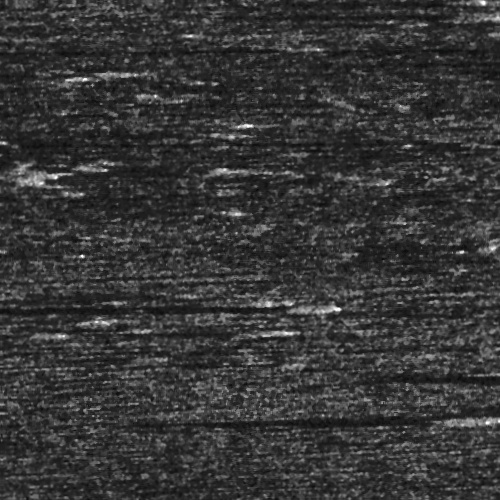object: (251, 301, 376, 310), (425, 415, 500, 426), (413, 10, 496, 19), (234, 327, 307, 336), (71, 67, 124, 72), (429, 0, 492, 4), (0, 132, 24, 139)
shadow: (168, 415, 472, 426), (0, 301, 313, 310), (240, 10, 454, 19), (333, 379, 500, 388), (110, 327, 271, 336), (384, 372, 500, 383), (318, 0, 461, 4), (430, 367, 500, 374), (20, 67, 98, 72), (87, 330, 248, 331)
